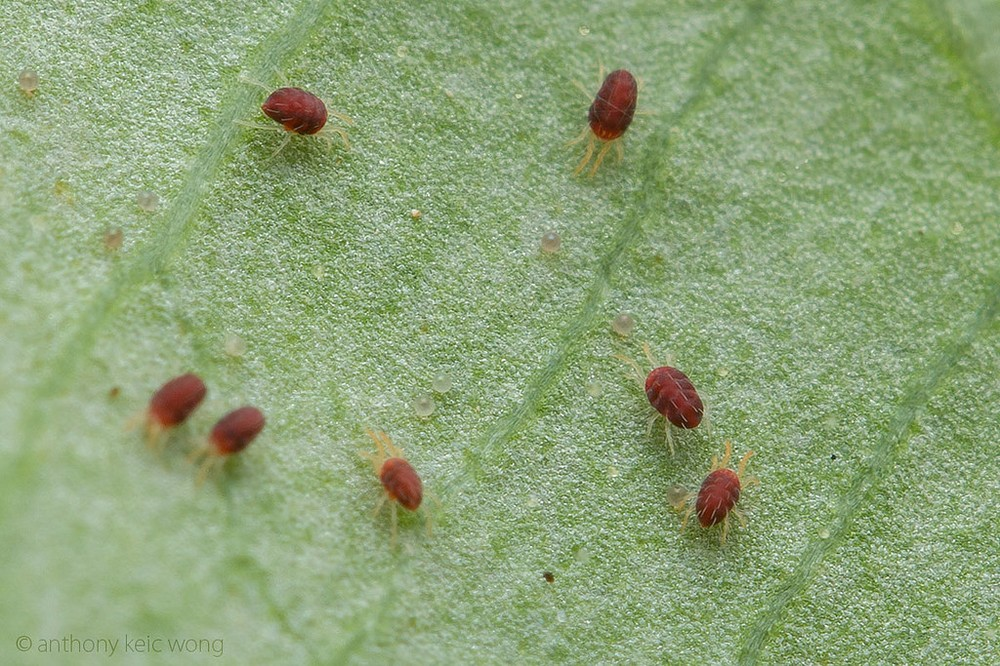Aracnido Rojo: (224, 51, 365, 170), (549, 50, 655, 189), (610, 334, 720, 460), (336, 416, 438, 542), (684, 435, 770, 548), (132, 360, 220, 458), (190, 396, 274, 485)
